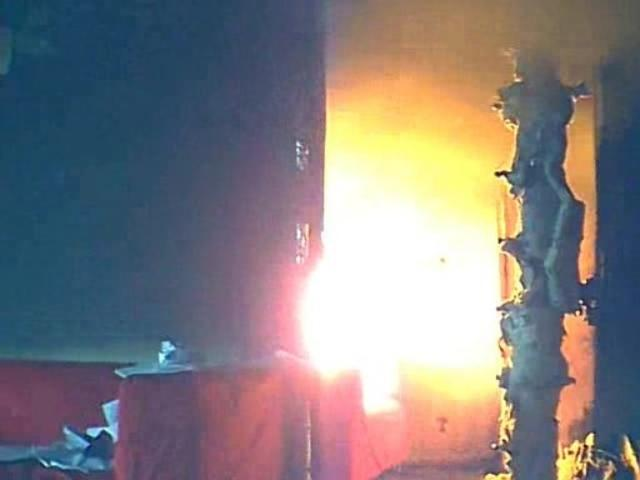fire: (294, 111, 509, 414), (554, 424, 638, 480)
